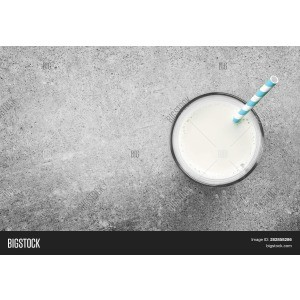milk_brain food: (163, 102, 263, 189)
